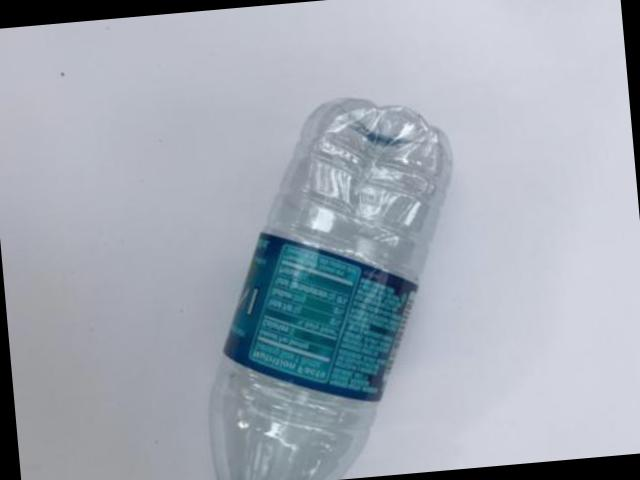plastic: (210, 96, 451, 480)
